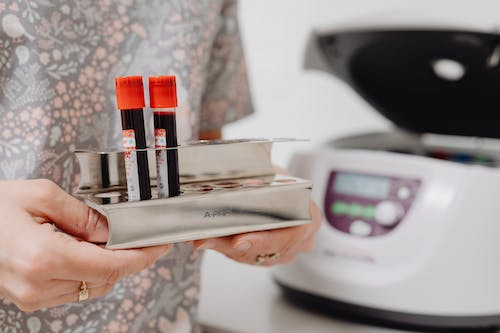blood: (120, 108, 152, 202), (152, 110, 181, 199)
